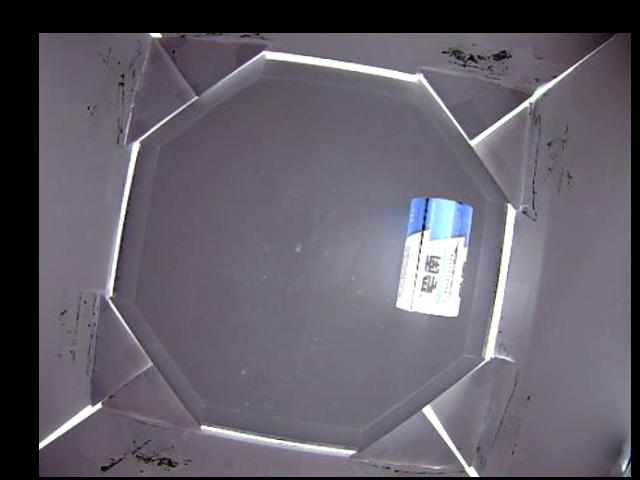Battery: (396, 195, 474, 316)
